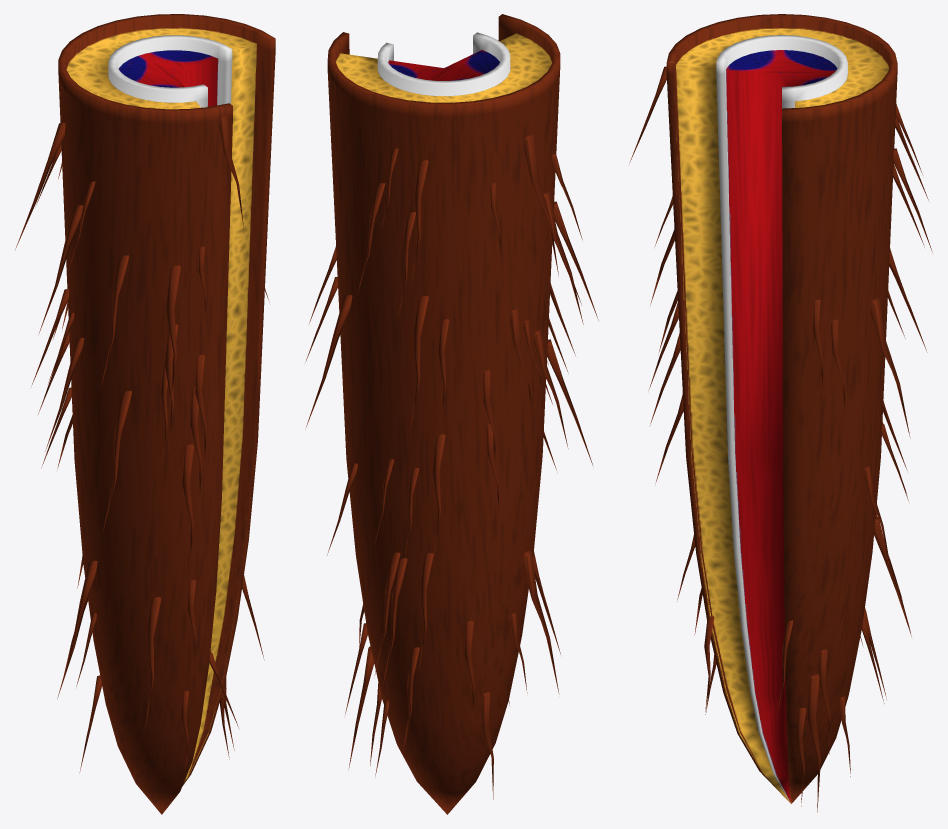
Rendered from Akar_Potong.fbx.
3 renders of one model, left to right at view 1: azimuth 30°, elevation 25°; view 2: azimuth 150°, elevation 25°; view 3: azimuth 270°, elevation 25°, orthographic.
Visible parts, largest first — view 1: Akar_Potong; view 2: Akar_Potong; view 3: Akar_Potong.
Part boxes in pixels (box(x1,y1,x2,y2)): Akar_Potong: box(15, 14, 275, 814); Akar_Potong: box(305, 14, 598, 814); Akar_Potong: box(629, 14, 932, 812).
Size of the model in its own units: 252 by 713 by 264.
